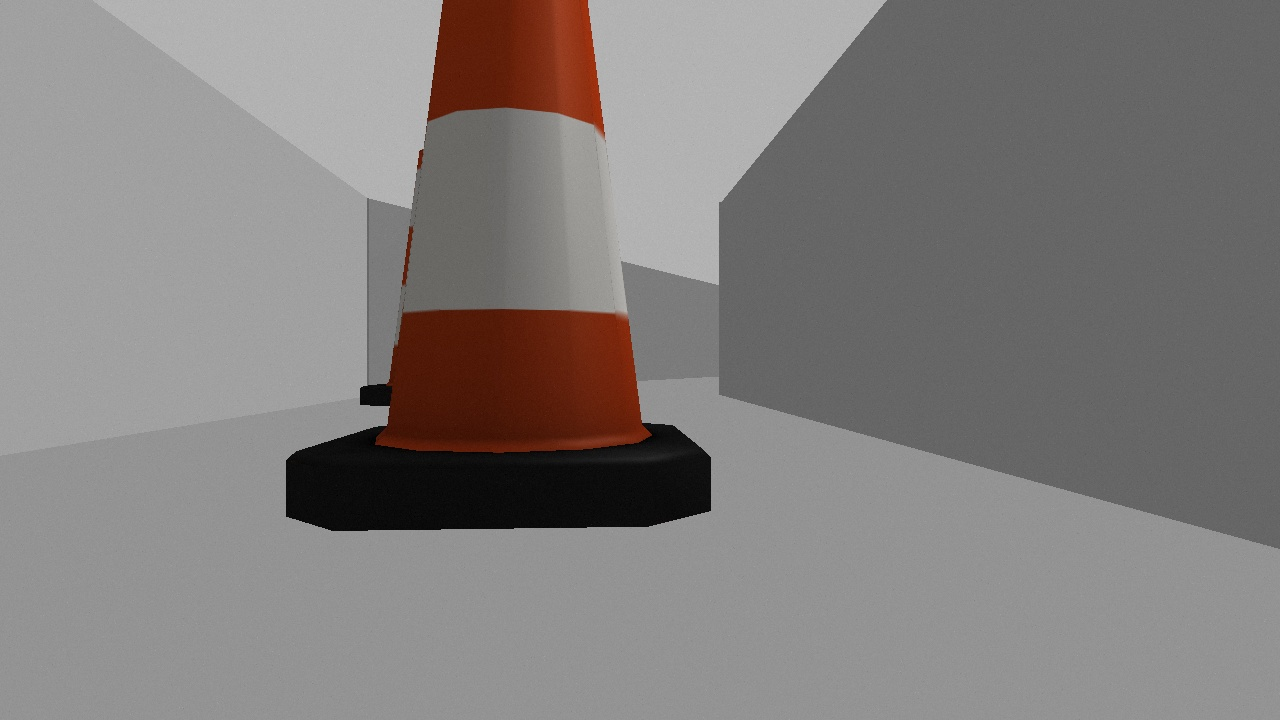barricade: (268, 1, 742, 552)
